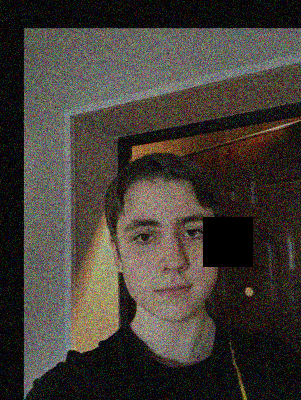without_mask: (116, 211, 217, 323)
